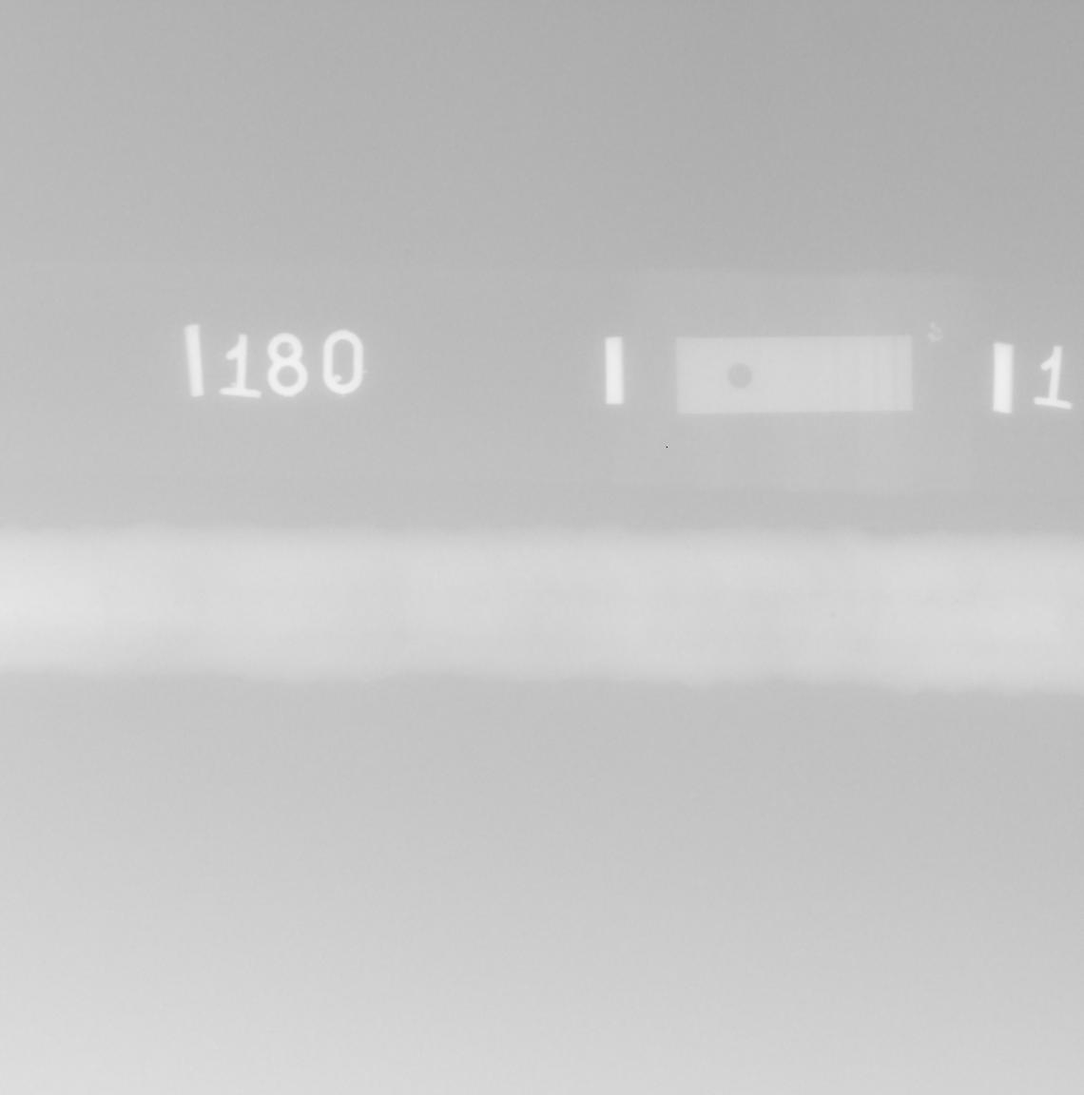Pore/Porosity: (829, 612, 836, 619), (954, 599, 959, 603), (972, 591, 974, 594)
Reference Standard 1: (676, 336, 913, 413)
